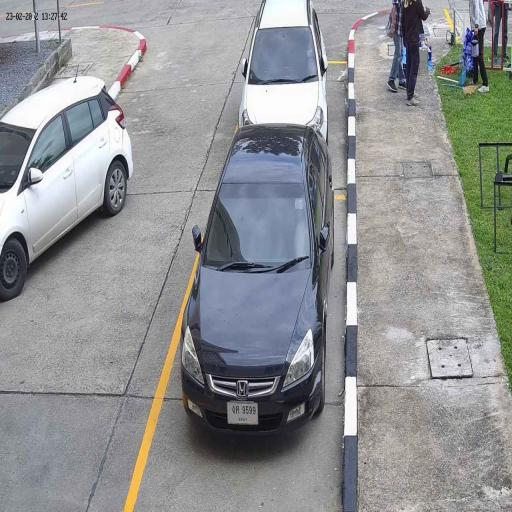car: (180, 122, 335, 442), (0, 75, 134, 302), (238, 0, 328, 150)
